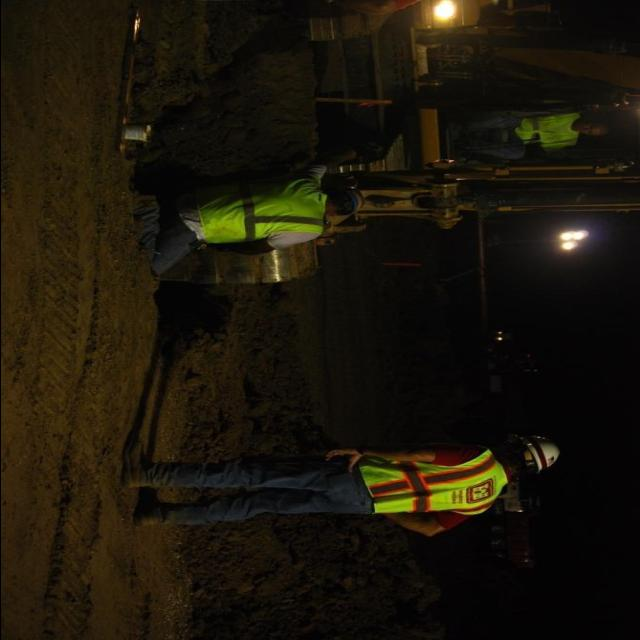helmet: (524, 424, 568, 472), (324, 173, 368, 221)
